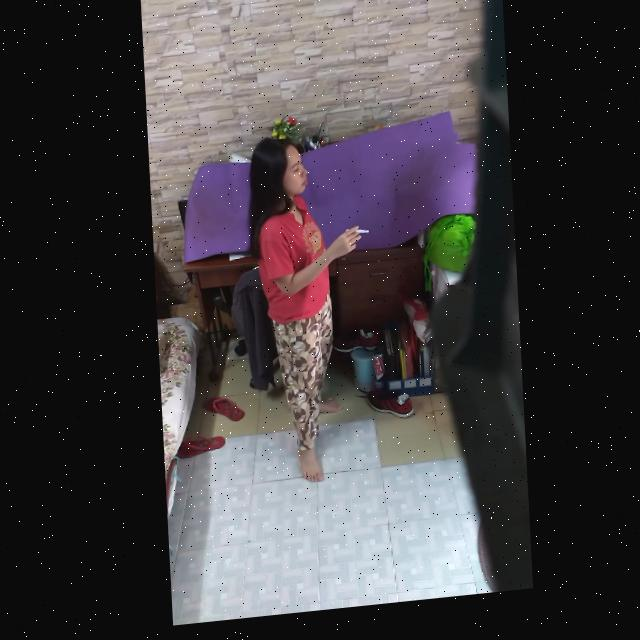cigarette: (343, 235, 366, 242)
